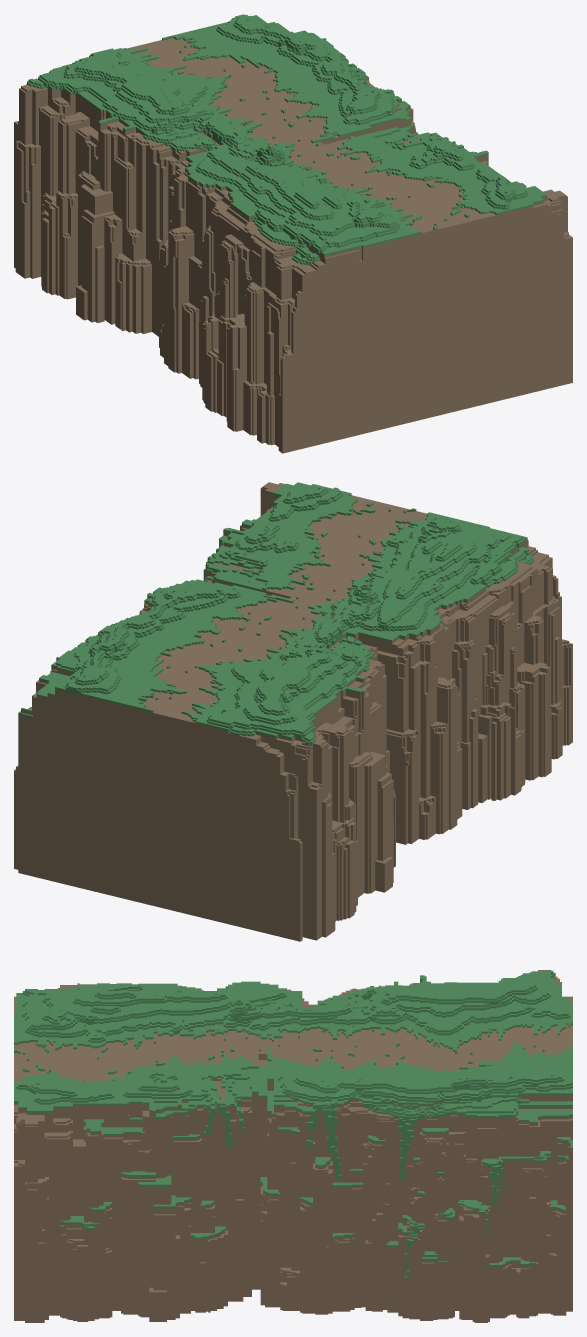
The model's file is Cubeland-26.obj.
The picture shows the model from 3 angles, top to bottom: view 1: azimuth 30°, elevation 25°; view 2: azimuth 150°, elevation 25°; view 3: azimuth 270°, elevation 25°; orthographic projection. The views are drawn at different scales.
Size of the model in its own units: 17.3 by 11.1 by 25.6.
1 material, 1 textured.
